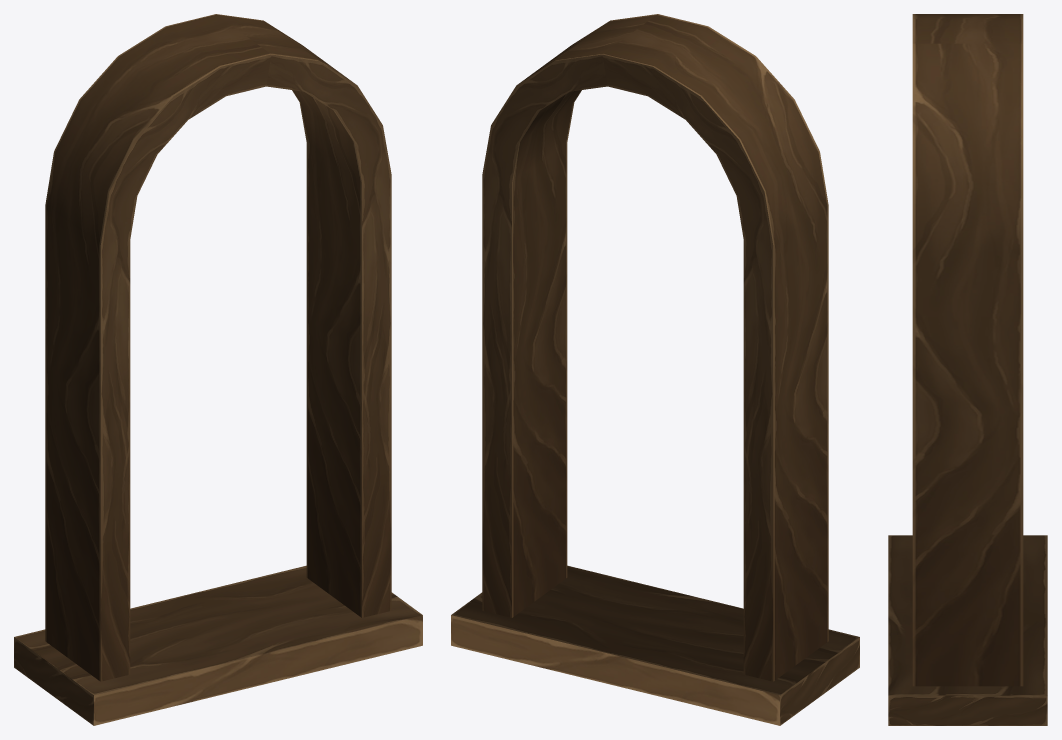
Rendered from Window_2_2.FBX.
The picture shows the model from 3 angles, left to right: view 1: azimuth 30°, elevation 25°; view 2: azimuth 150°, elevation 25°; view 3: azimuth 270°, elevation 25°; orthographic projection.
Parts seen in each view (by area): view 1: Window_2_2; view 2: Window_2_2; view 3: Window_2_2.
Part boxes in pixels (box(x1,y1,x2,y2)): Window_2_2: box(14, 14, 422, 725); Window_2_2: box(451, 14, 859, 725); Window_2_2: box(888, 14, 1047, 725).
Bounding box in the file's own units: 996 × 1782 × 418.
